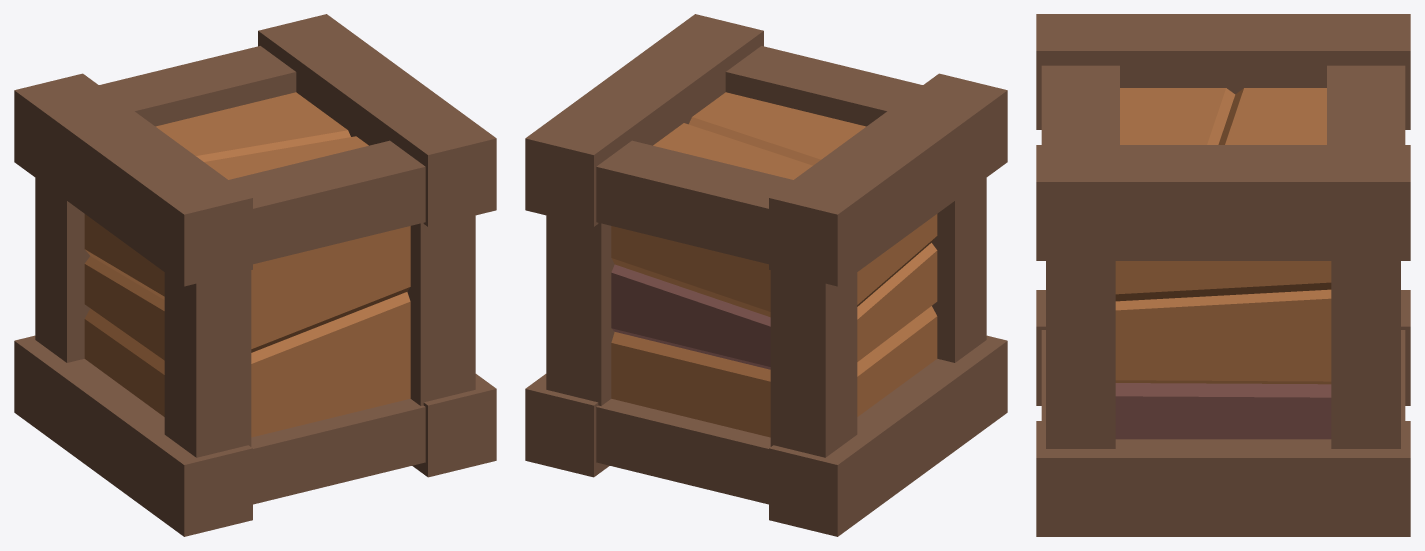
File: Crate.fbx
3 renders of one model, left to right at view 1: azimuth 30°, elevation 25°; view 2: azimuth 150°, elevation 25°; view 3: azimuth 270°, elevation 25°, orthographic. The views are drawn at different scales.
Visible parts, largest first — view 1: Crate; view 2: Crate; view 3: Crate.
Part boxes in pixels (box(x1,y1,x2,y2)): Crate: box(14, 14, 496, 536); Crate: box(525, 14, 1007, 536); Crate: box(1036, 14, 1410, 536).
Bounding box in the file's own units: 0.6408 × 0.6038 × 0.6314.
